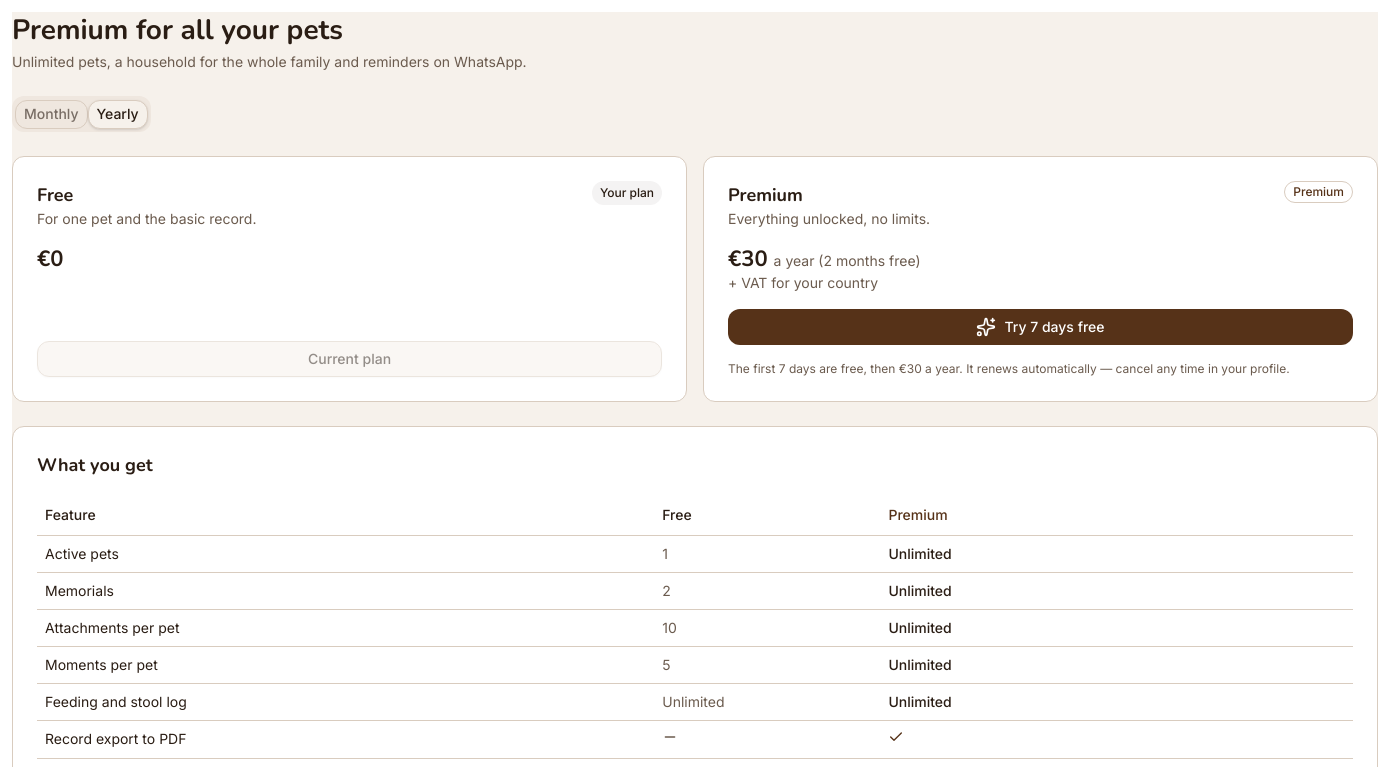
it: S17 Premium — prices (BR-62 / EP-44) › en-GB: €3 a month, €30 a year (2 months free)
Click the tab "Monthly". click: (51, 114)
box: [15,100,88,128]
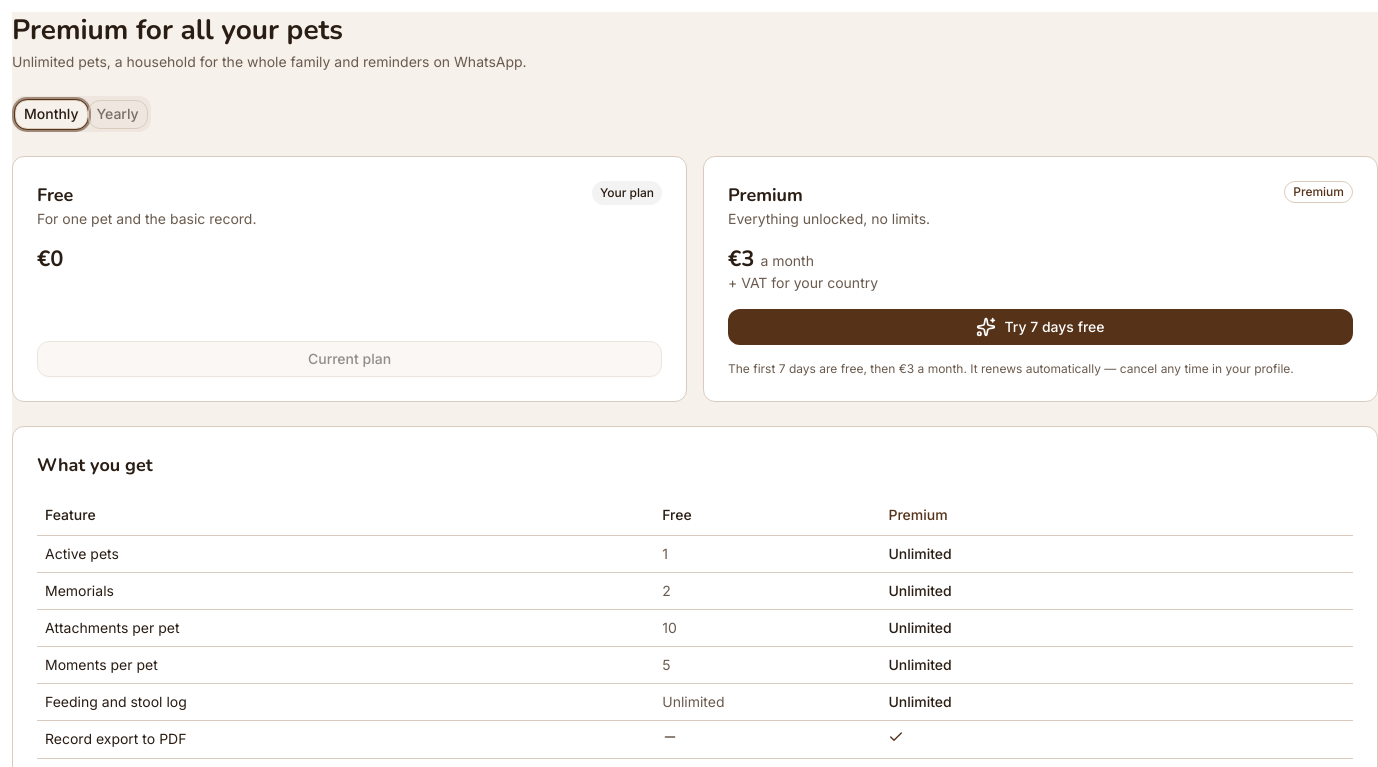
Check: the text "+ VAT for your country" is shown, box [728,274,878,291]
Check: the text "a year (2 months free)" reads "€3 a month", box [728,244,814,274]
